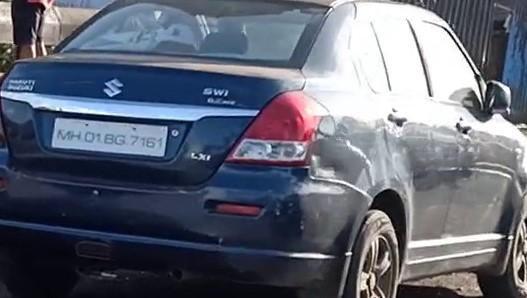MH01BG7161: (50, 115, 168, 158)
